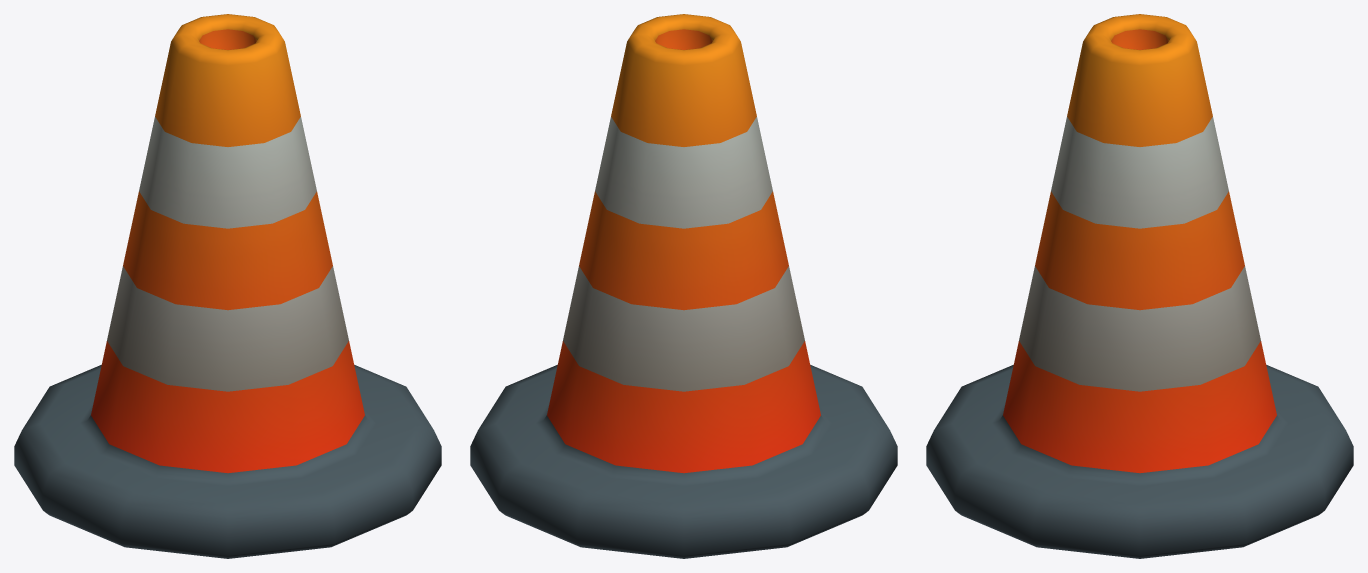
The model's file is mct_prop_trafficcone.fbx.
3 renders of one model, left to right at view 1: azimuth 30°, elevation 25°; view 2: azimuth 150°, elevation 25°; view 3: azimuth 270°, elevation 25°, orthographic.
Visible parts, largest first — view 1: mct_trafficcone; view 2: mct_trafficcone; view 3: mct_trafficcone.
Part boxes in pixels (x1,y1,x2,y2): mct_trafficcone: (14,14,441,558); mct_trafficcone: (470,14,897,558); mct_trafficcone: (926,14,1353,558).
Size of the model in its own units: 79.17 by 89.39 by 79.17.
